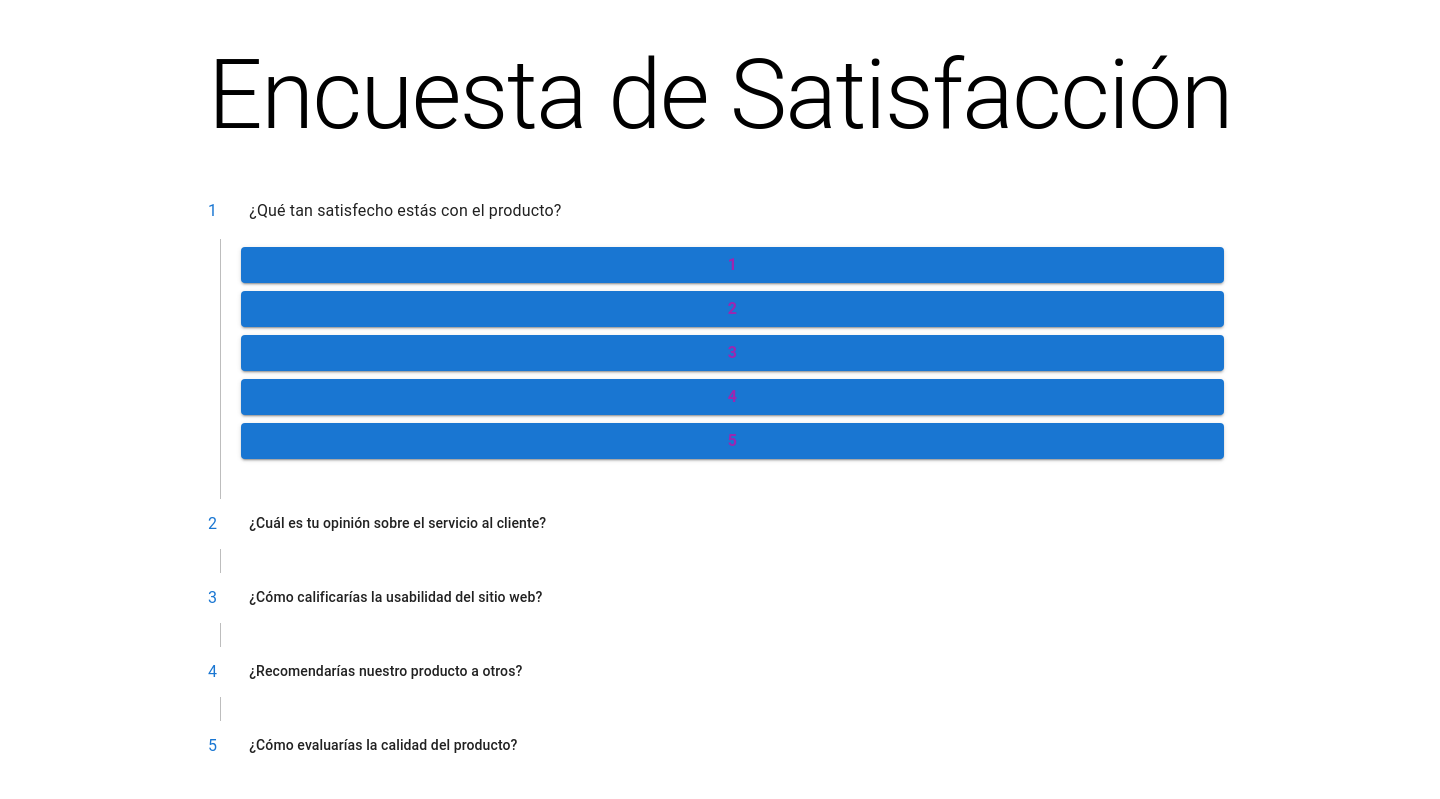
Scenario: App › should can move foward into the form and see my answers
Click the button "1": (732, 265) [241,247,1224,283]
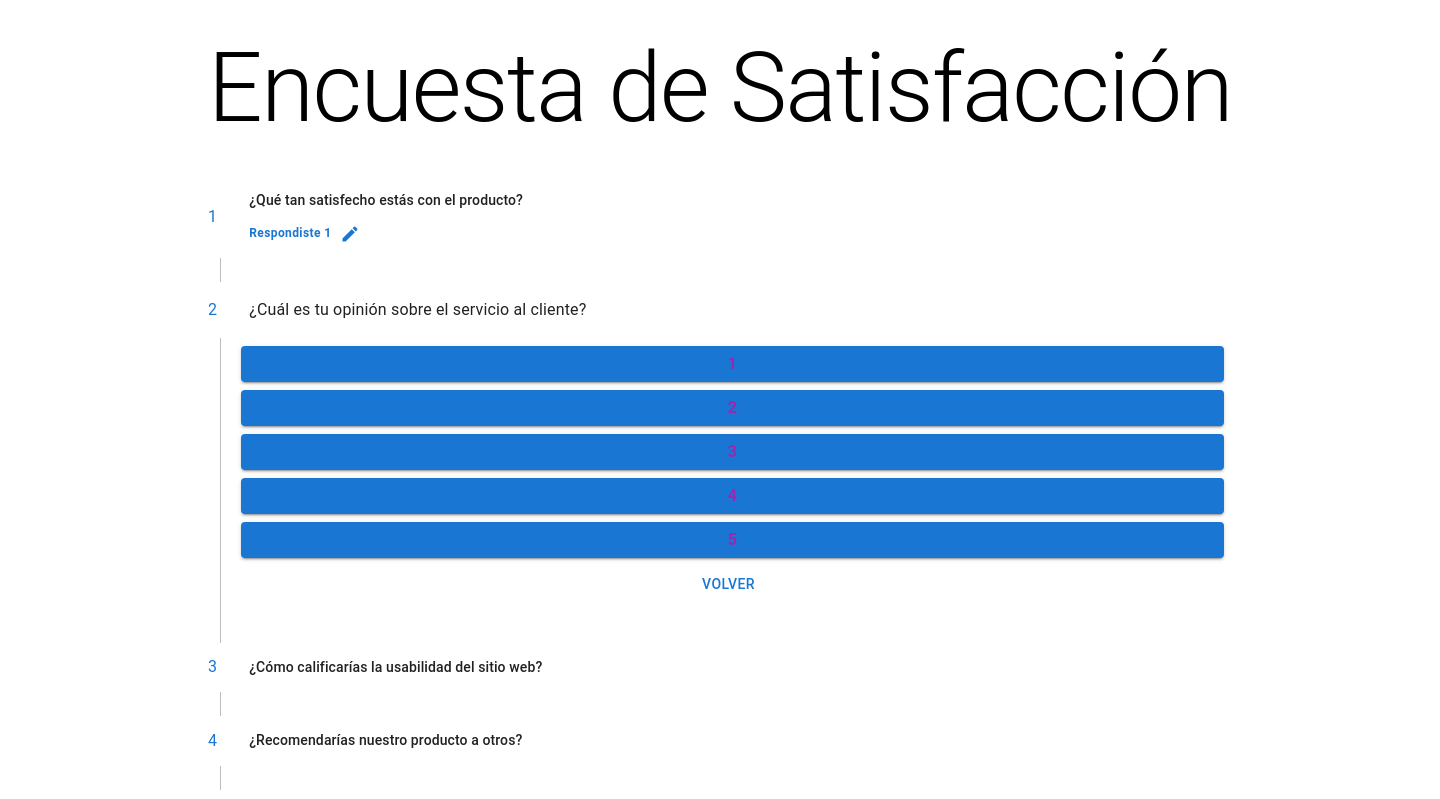
expect the heading "¿Cuál es tu opinión sobre el servicio al cliente?" is shown: met, box [249,296,586,324]
expect the button "Volver" is shown: met, box [694,566,763,602]
